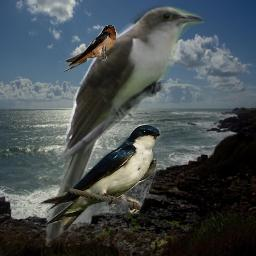Cuckoo: (38, 3, 204, 251)
Swallow: (37, 124, 161, 232), (59, 25, 116, 72)
